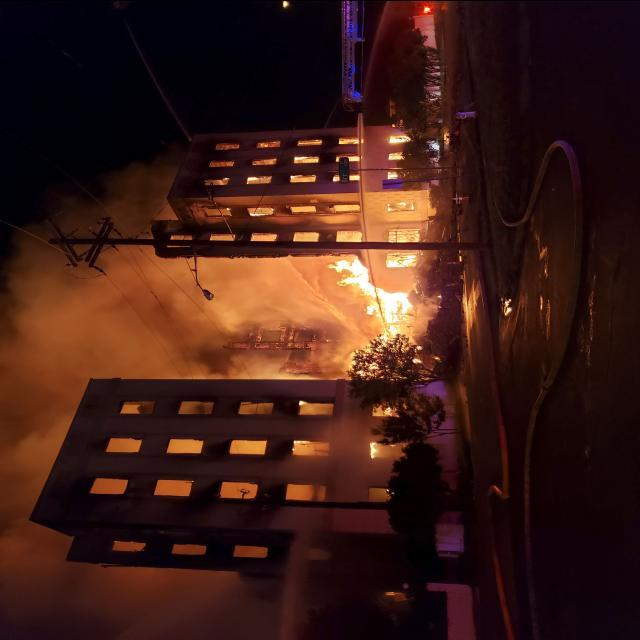Fire: (308, 232, 428, 362)
